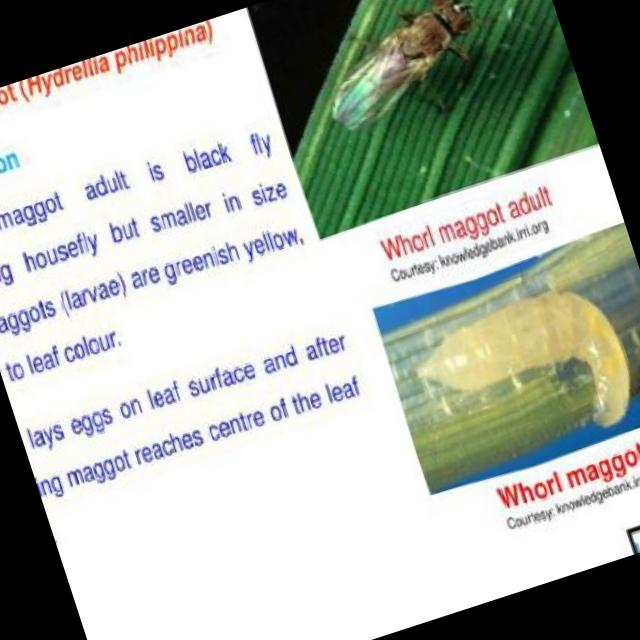whorl-maggot: (396, 262, 640, 487)
